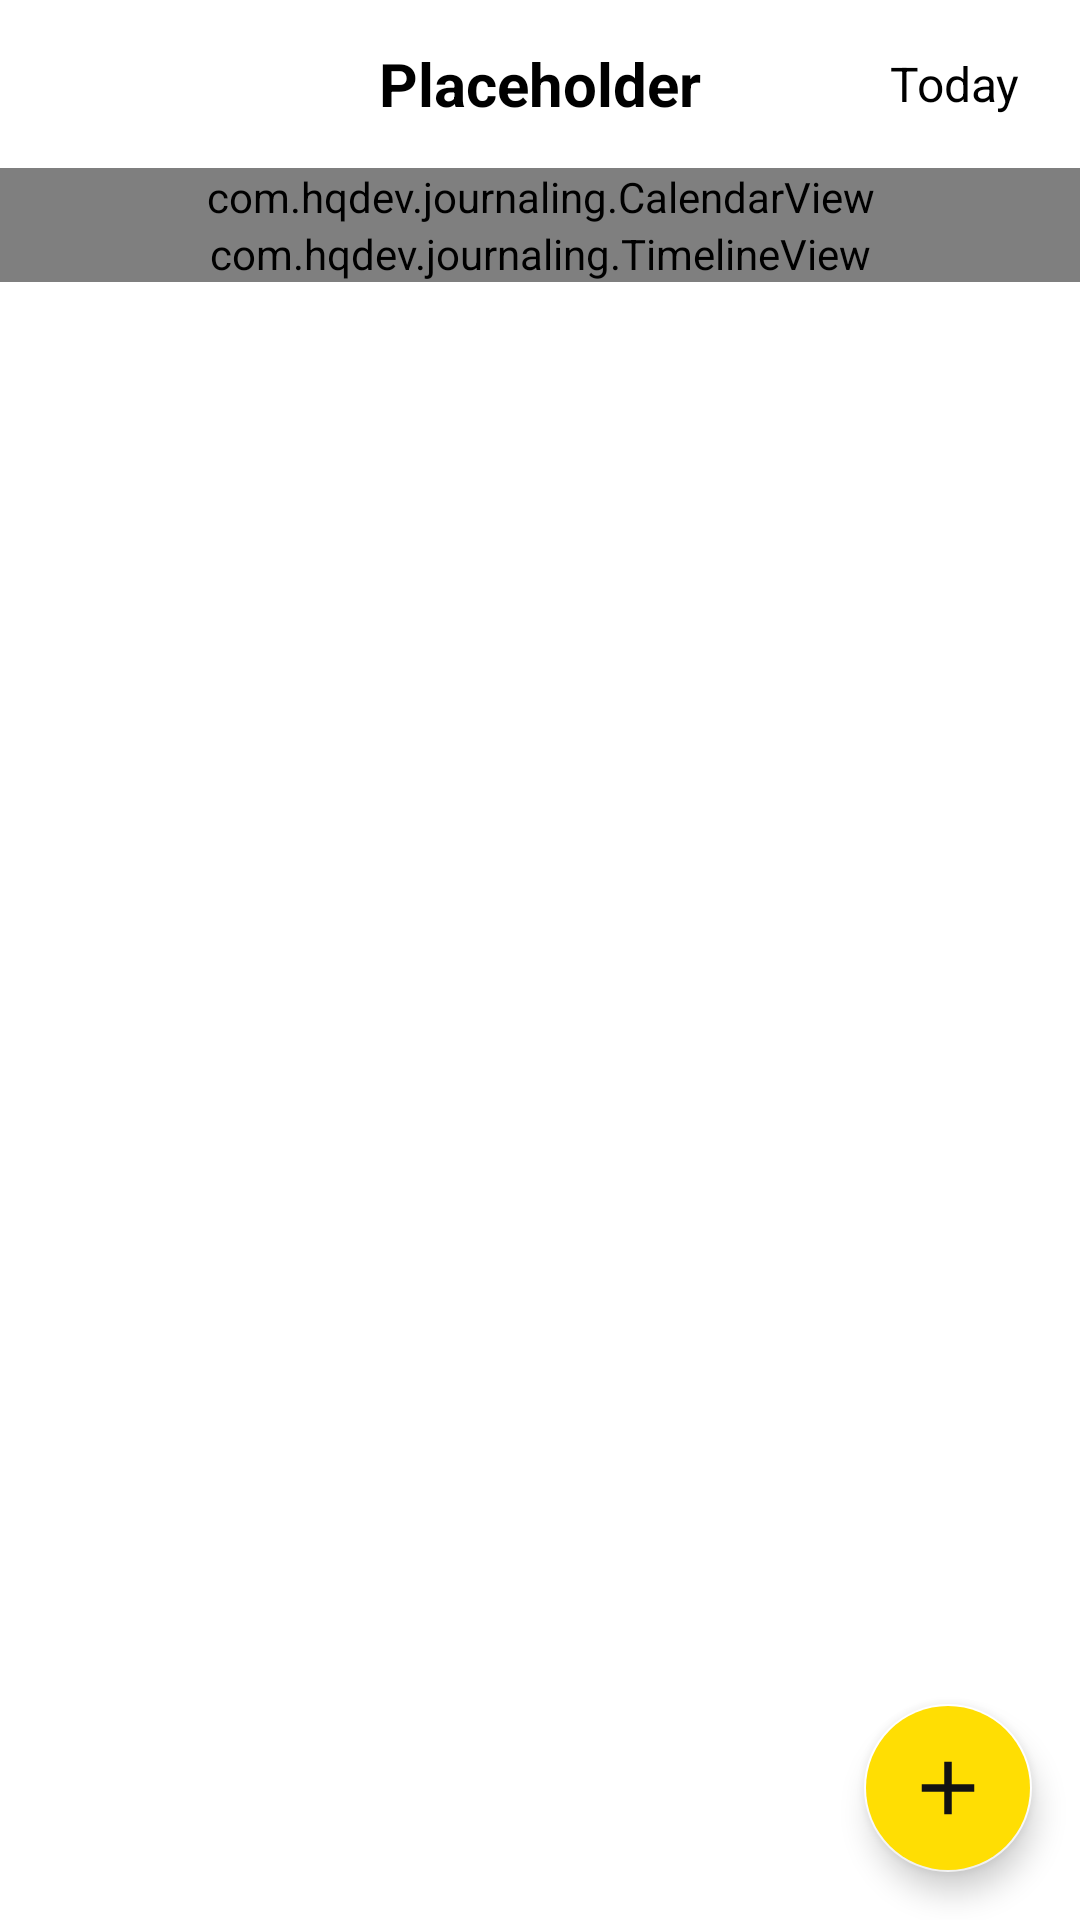

Named icons in this screenshot (1080 x 1920) and their centers, [x,y]:
plus sign: [948,1788]
